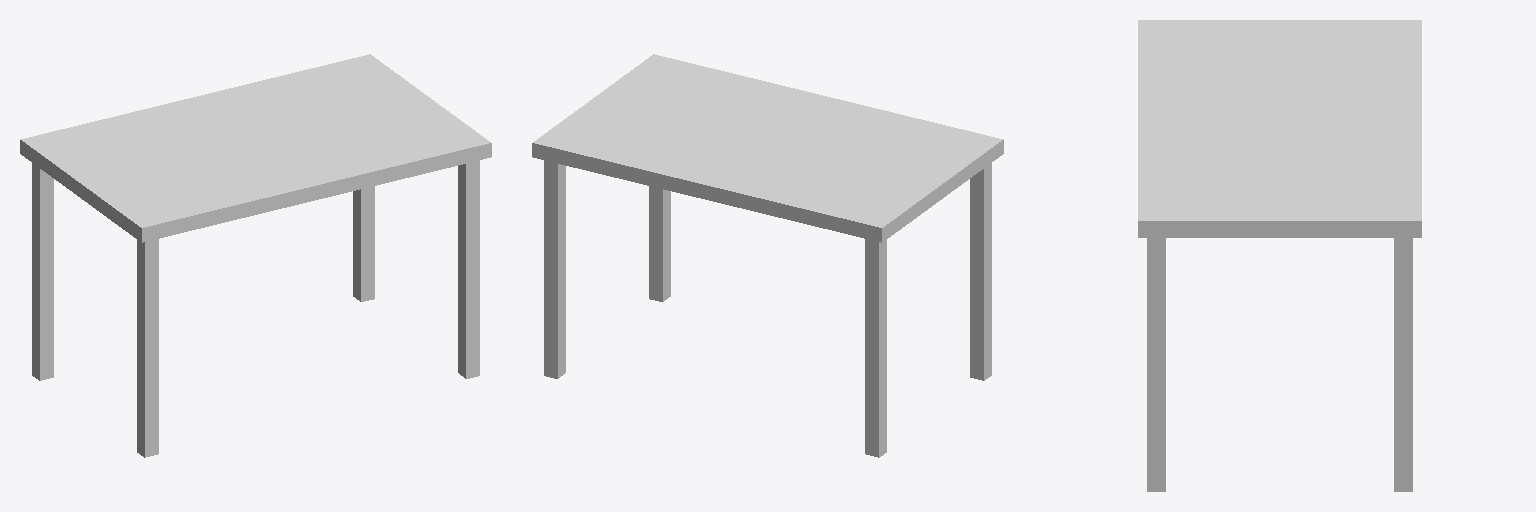
URDF robot description (table):
<?xml version="1.0" ?>
<robot name="table">
  <link name="tableLink">
  <contact>
      <lateral_friction value="1"/>
  </contact>
    <inertial>
      <origin rpy="0 0 0" xyz="0 0 0"/>
       <mass value=".0"/>
       <inertia ixx="0" ixy="0" ixz="0" iyy="0" iyz="0" izz="0"/>
    </inertial>
    <visual>
      <origin rpy="0 0 0" xyz="0 0 0"/>
      <geometry>
				<mesh filename="table.stl" scale="1 1 1"/>
      </geometry>
       <material name="red">
        <color rgba="0.90196078431372550543 0.90196078431372550543 0.90196078431372550543 1.0"/>
      </material>
    </visual>
    <collision>
      <origin rpy="0 0 0" xyz="0 0 0"/>
      <geometry>
	 	<box size="1 1 1"/>
      </geometry>
    </collision>
  </link>
</robot>

--- Facts derived from the render (not from the file) ---
3 views of the same robot in one strip: view 1: azimuth 30°, elevation 25°; view 2: azimuth 150°, elevation 25°; view 3: azimuth 270°, elevation 25° (orthographic).
Model table with 1 links and 0 joints (none), rooted at tableLink, posed all joints at 0.
Links seen in each view (by area): view 1: tableLink; view 2: tableLink; view 3: tableLink.
Link boxes in pixels (left/top/right/bottom): tableLink: left=20, top=54, right=491, bottom=457; tableLink: left=532, top=54, right=1003, bottom=457; tableLink: left=1138, top=20, right=1421, bottom=491.
Bounding box of the posed robot: 1 × 0.6 × 0.64 m (x, y, z).
Meshes: 1 distinct files referenced, 1 mesh visuals loaded (1 binary STL).